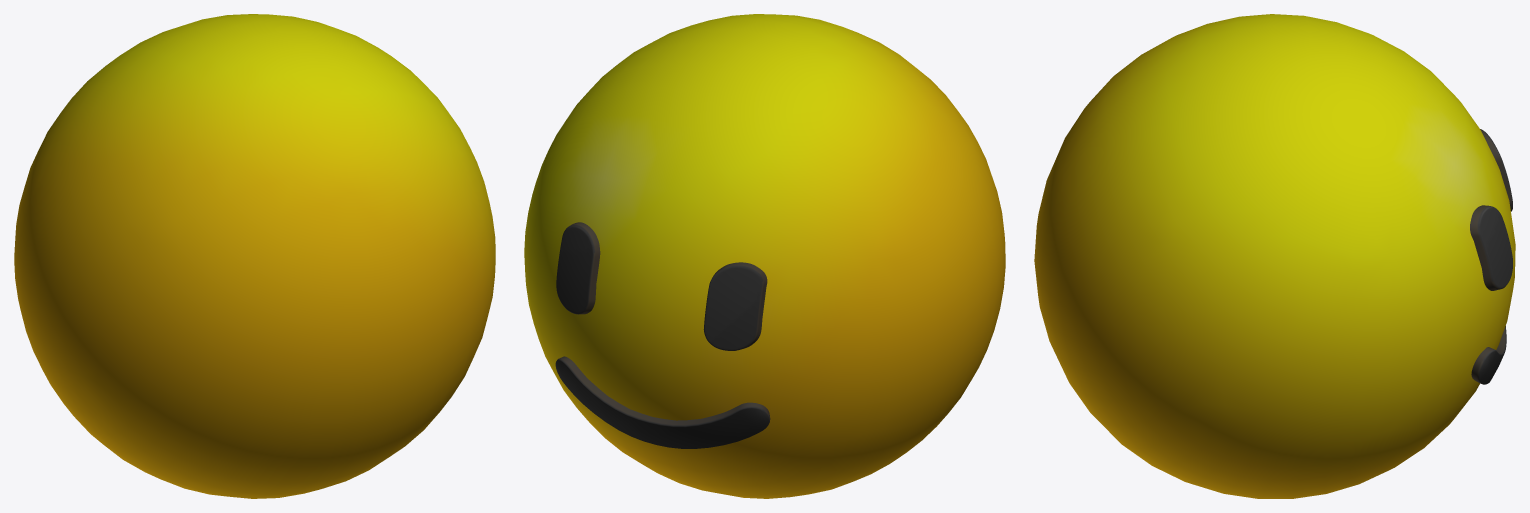
The model's file is SmilingFaceVertexColors.gltf.
3 views of the same model, side by side, from view 1: azimuth 30°, elevation 25°; view 2: azimuth 150°, elevation 25°; view 3: azimuth 270°, elevation 25° (orthographic).
Parts seen in each view (by area): view 1: SmilingFace; view 2: SmilingFace; view 3: SmilingFace.
Boxes of the visible parts, x1,y1,x2,y2 form: SmilingFace: (14,14,495,498); SmilingFace: (524,14,1005,498); SmilingFace: (1034,14,1515,498).
Bounding box in the file's own units: 1.62 × 1.64 × 1.62.
